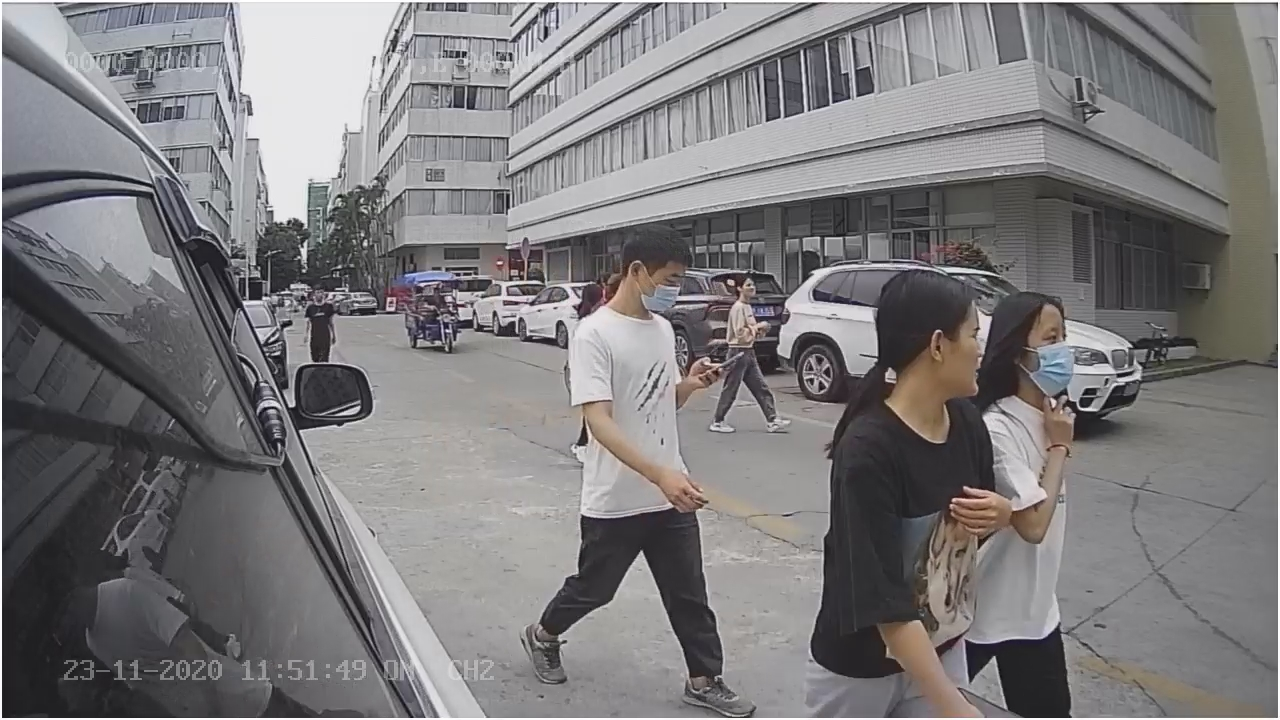person: (519, 216, 758, 712)
